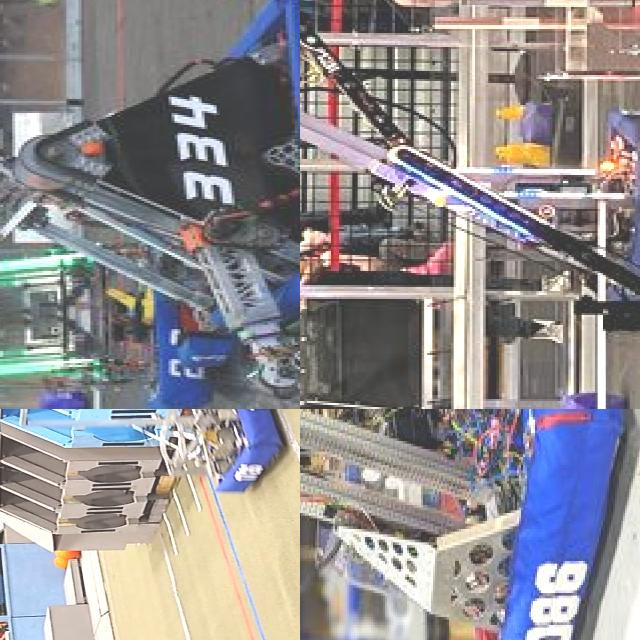FRC-Robots: (300, 0, 640, 409), (0, 0, 300, 396), (300, 409, 636, 640), (371, 90, 640, 319), (0, 172, 218, 409), (7, 409, 292, 497), (154, 272, 234, 372)
